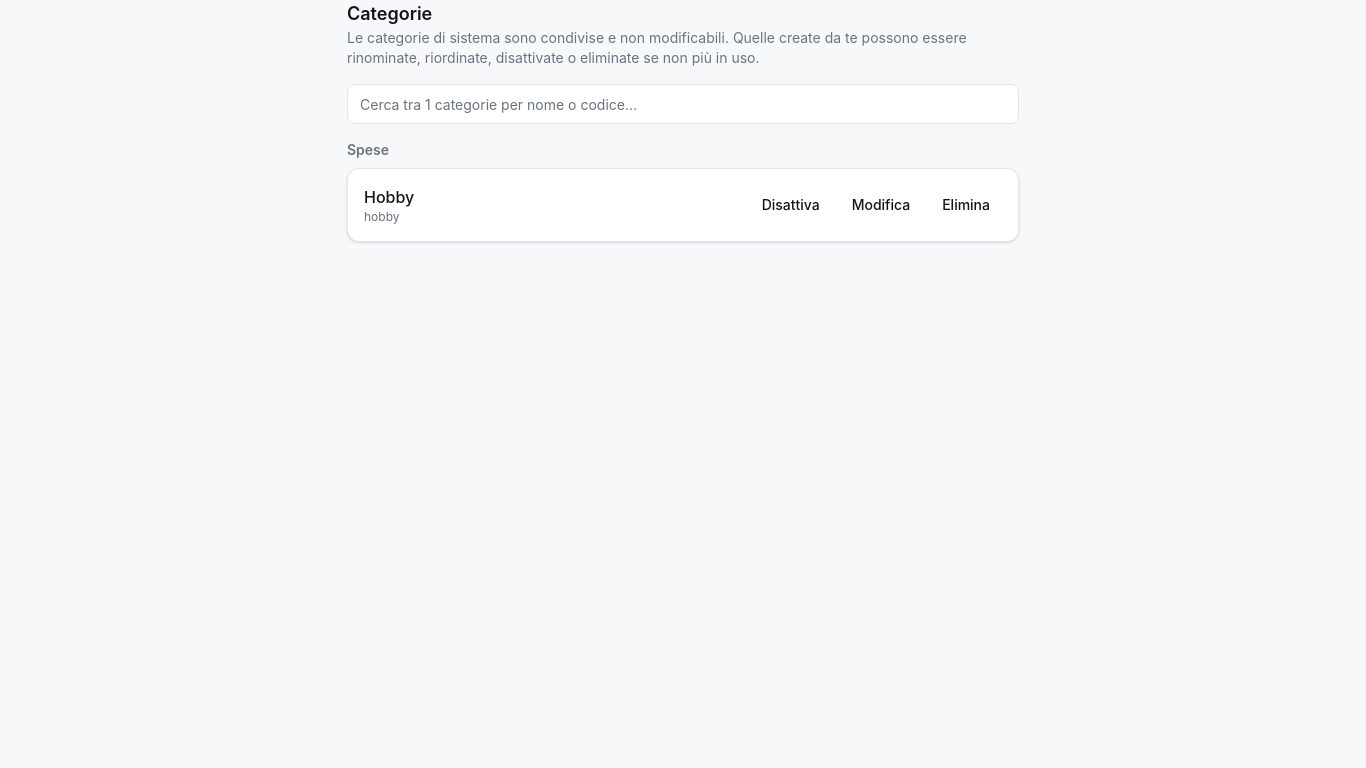
Test case: CategoriesSettingsPage › mostra l'errore quando l'eliminazione fallisce perché la categoria è ancora in uso
This screenshot has width=1366, height=768.
Expected: the text "Hobby" is shown, x1=364 y1=185 x2=414 y2=209
Click the button "Elimina" at (966, 205), box x1=930 y1=189 x2=1002 y2=221
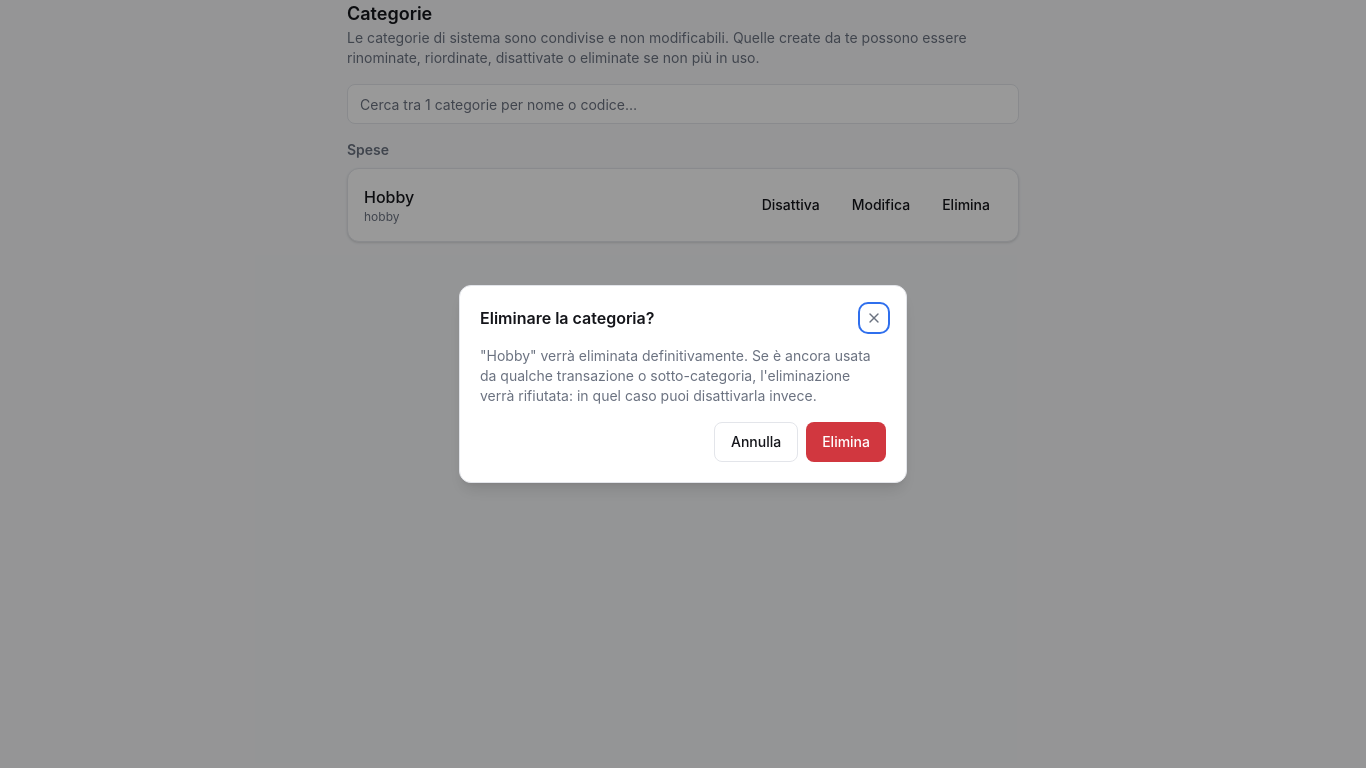
Click the button "Elimina" at (846, 442), box x1=806 y1=422 x2=886 y2=462
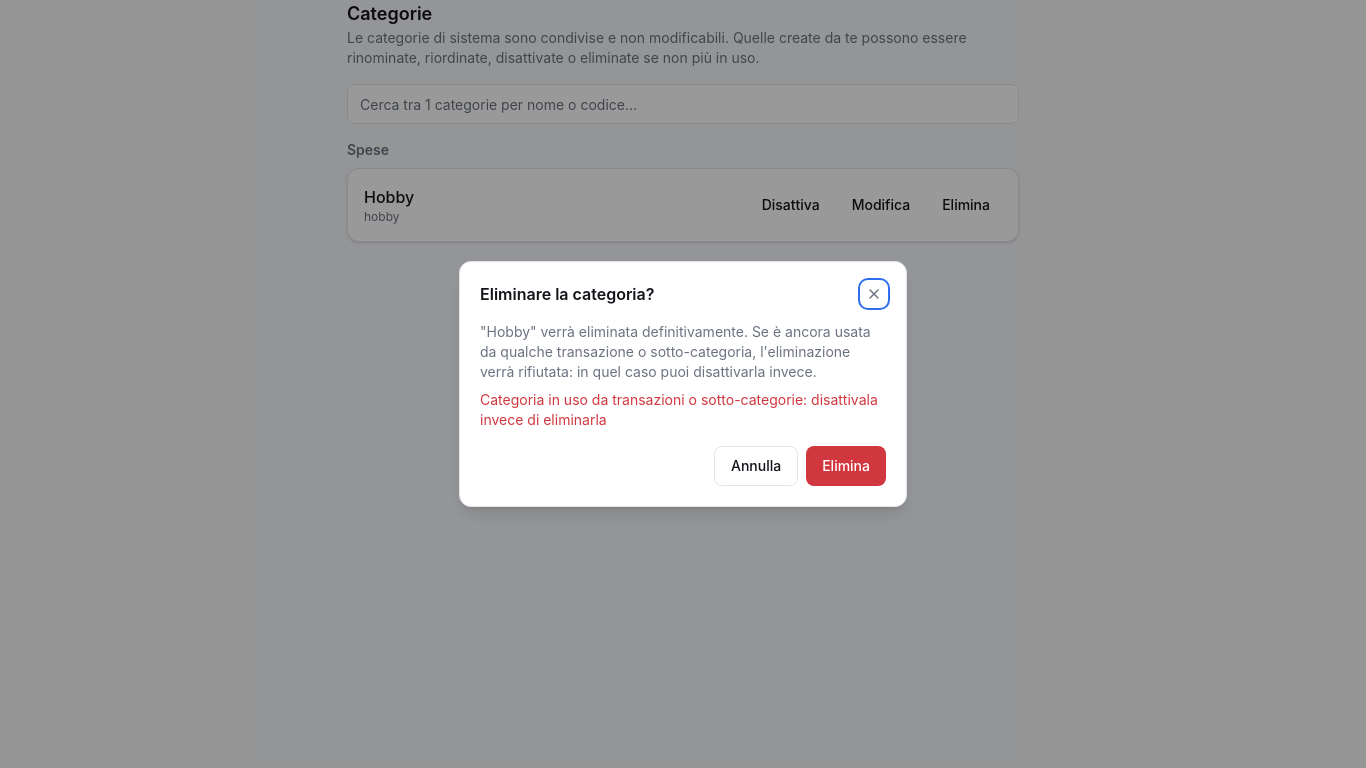
Now the text "Categoria in uso da transazioni o sotto-categorie: disattivala invece di eliminarla" is shown, box x1=480 y1=391 x2=878 y2=428
